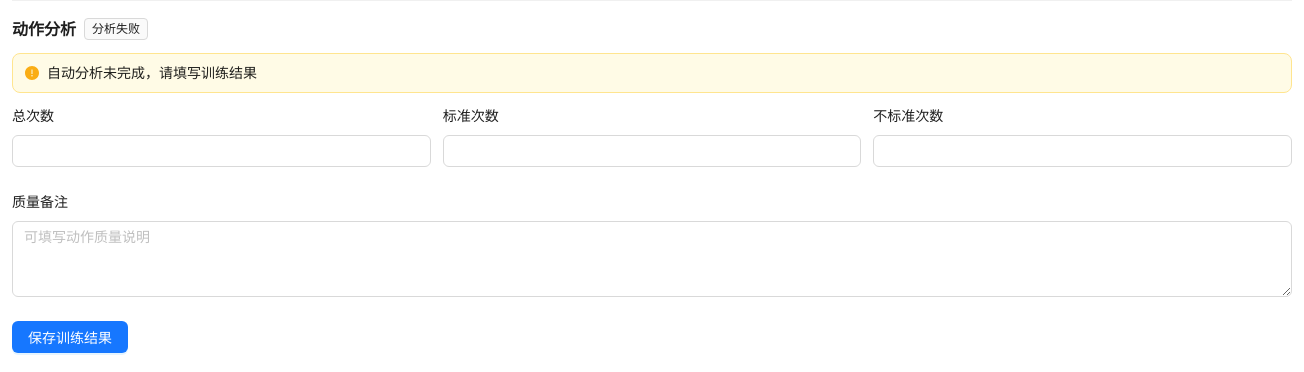
Test case: MotionAnalysisPanel › 拒绝非法原始文本 1e3 且 blur 后不静默改值
Type "1e3" into the field labelled "总次数" at {"x": 221, "y": 151}, box x1=12 y1=135 x2=431 y2=167
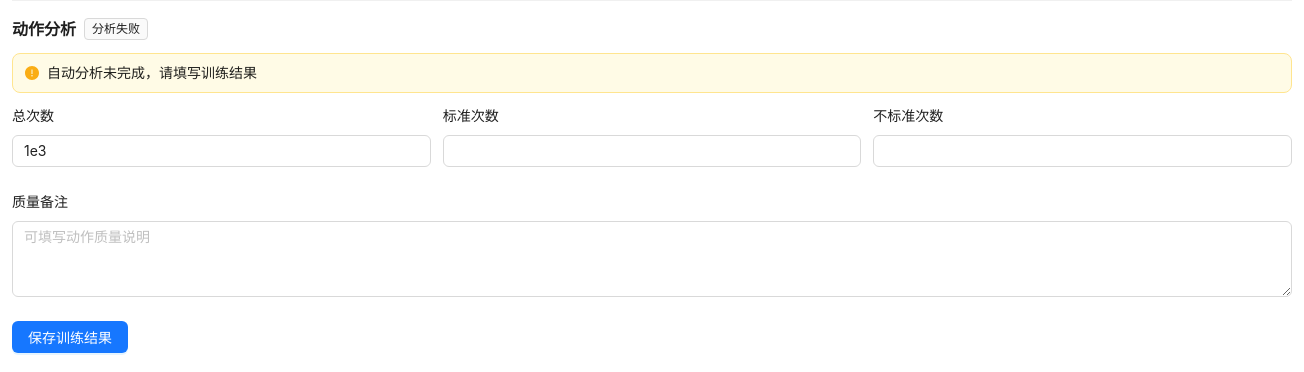
Type "0" into the field labelled "标准次数" at {"x": 652, "y": 151}, box x1=443 y1=135 x2=861 y2=167
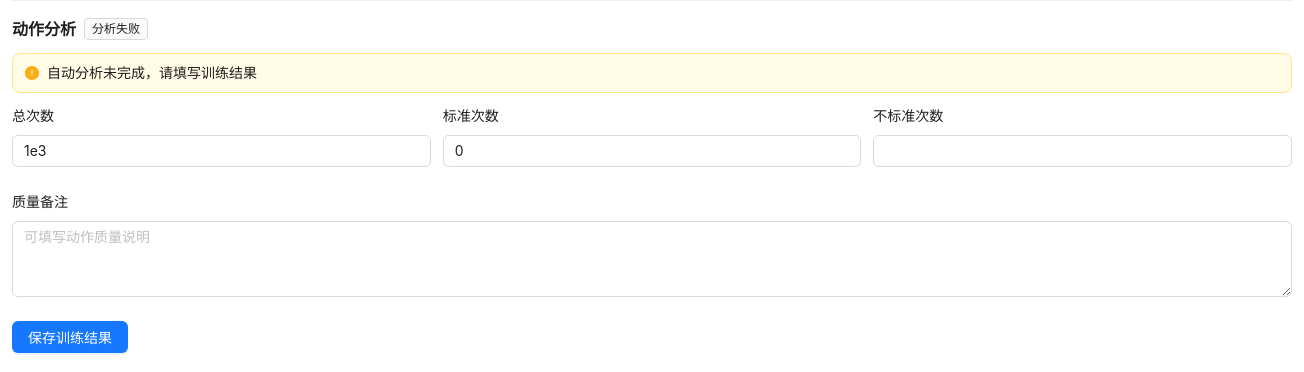
Type "0" into the field labelled "不标准次数" at {"x": 1083, "y": 151}, box x1=873 y1=135 x2=1292 y2=167
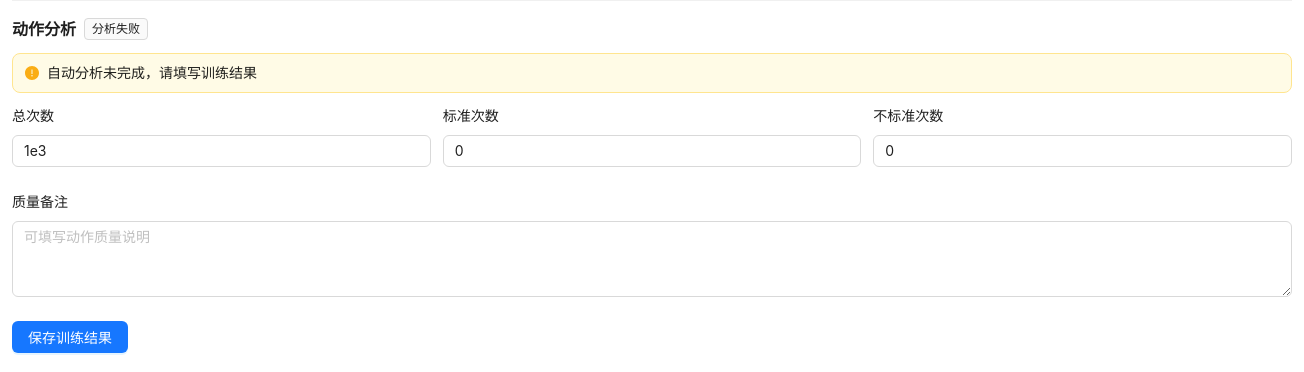
Click the button "保存训练结果" at {"x": 70, "y": 337}, box x1=12 y1=321 x2=128 y2=353
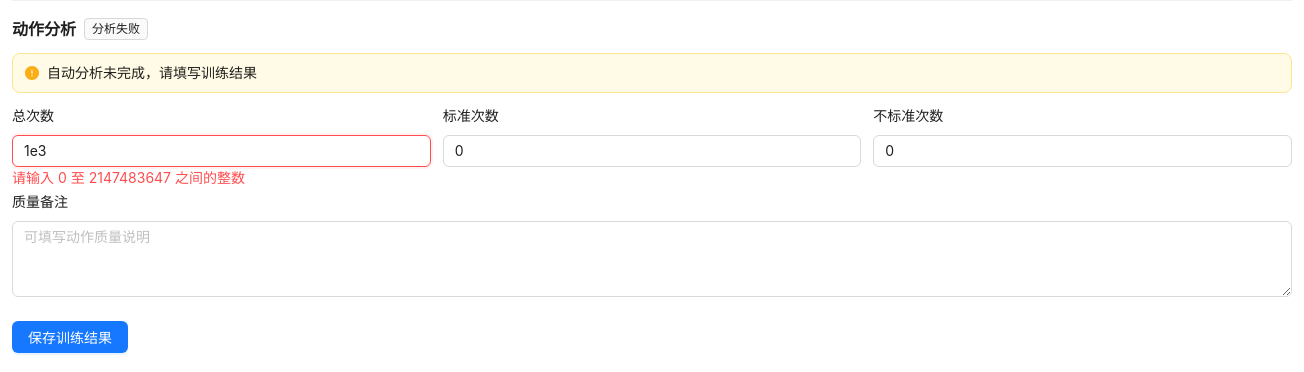
Expected: the text "请输入 0 至 2147483647 之间的整数" is shown, x1=12 y1=169 x2=245 y2=186
